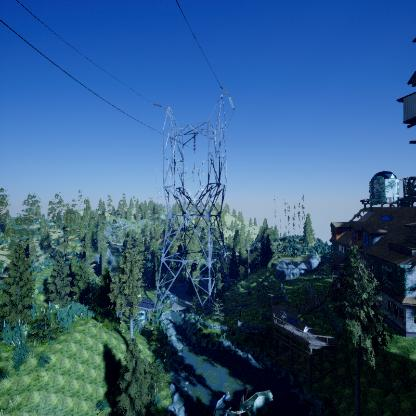tower: (150, 85, 235, 321)
